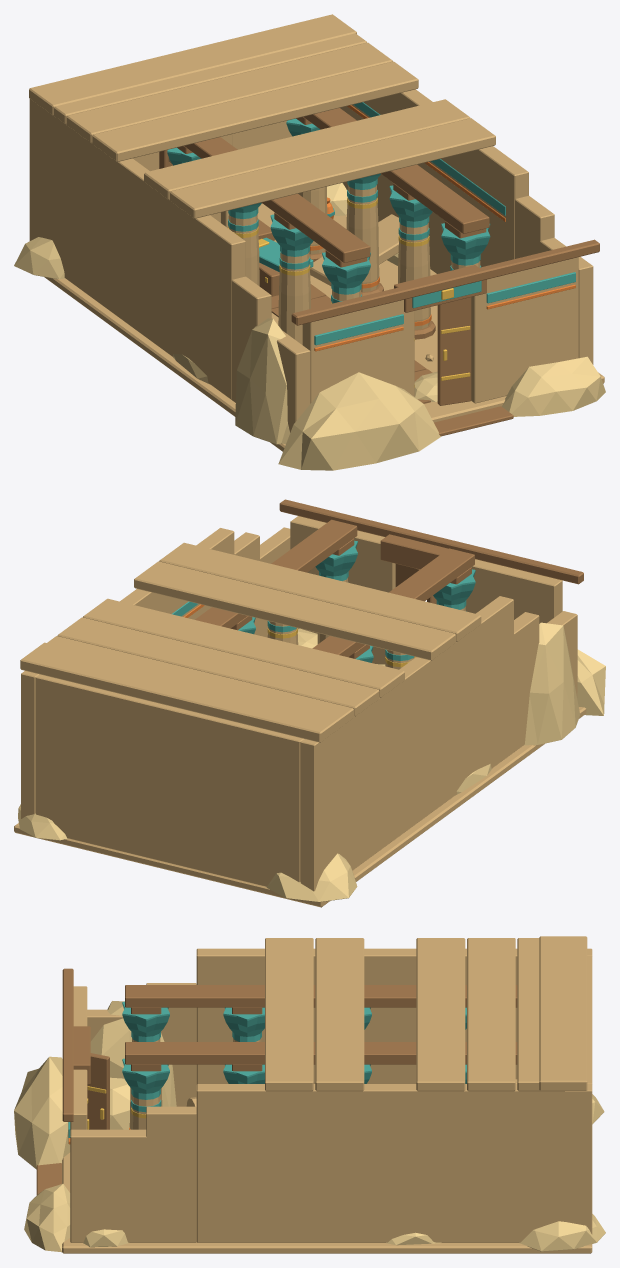
Rendered from desert-temple-hall.glb.
3 views of the same model, one above another, from view 1: azimuth 30°, elevation 25°; view 2: azimuth 150°, elevation 25°; view 3: azimuth 270°, elevation 25° (orthographic). The views are drawn at different scales.
Parts seen in each view (by area): view 1: Wall_L_Back, Sand_Dune_Front_L, RoofSlab_3, RoofSlab_1, Wall_Front_R, RoofSlab_4, RoofSlab_2, RoofSlab_6, Wall_R_Back, Wall_Front_L, Floor, Sand_OverWall_L (+28 smaller); view 2: Wall_Back, Wall_L_Back, RoofSlab_6, RoofSlab_2, RoofSlab_1, RoofSlab_3, RoofSlab_4, Sand_OverWall_L, Floor, Wall_R_Back, Wall_Front_L, Facade_Cornice (+14 smaller); view 3: Wall_R_Back, Wall_R_Front, Wall_L_Back, RoofSlab_2, RoofSlab_3, RoofSlab_6, RoofSlab_1, RoofSlab_4, Floor, Sand_Dune_Front_L, Architrave_L, Architrave_R (+21 smaller).
Part boxes in pixels (left/top/right/bottom): Wall_L_Back: left=29, top=99, right=245, bottom=399; Sand_Dune_Front_L: left=278, top=372, right=440, bottom=470; RoofSlab_3: left=92, top=61, right=418, bottom=161; RoofSlab_1: left=170, top=118, right=495, bottom=218; Wall_Front_R: left=471, top=257, right=578, bottom=403; RoofSlab_4: left=66, top=42, right=392, bottom=142; RoofSlab_2: left=144, top=99, right=470, bottom=199; RoofSlab_6: left=29, top=14, right=356, bottom=115; Wall_R_Back: left=340, top=89, right=528, bottom=273; Wall_Front_L: left=302, top=300, right=414, bottom=403; Floor: left=44, top=203, right=604, bottom=451; Sand_OverWall_L: left=235, top=318, right=287, bottom=444; Wall_Back: left=35, top=674, right=303, bottom=886; Wall_L_Back: left=300, top=596, right=513, bottom=891; RoofSlab_6: left=20, top=642, right=343, bottom=742; RoofSlab_2: left=134, top=561, right=455, bottom=660; RoofSlab_1: left=159, top=542, right=481, bottom=641; RoofSlab_3: left=83, top=598, right=404, bottom=697; RoofSlab_4: left=57, top=617, right=379, bottom=716; Sand_OverWall_L: left=524, top=622, right=580, bottom=745; Floor: left=14, top=707, right=586, bottom=907; Wall_R_Back: left=21, top=528, right=234, bottom=818; Wall_Front_L: left=465, top=559, right=562, bottom=623; Facade_Cornice: left=279, top=499, right=583, bottom=584; Wall_R_Back: left=196, top=1084, right=592, bottom=1242; Wall_R_Front: left=70, top=1129, right=196, bottom=1242; Wall_L_Back: left=196, top=948, right=592, bottom=1084; RoofSlab_2: left=315, top=938, right=364, bottom=1091; RoofSlab_3: left=416, top=938, right=465, bottom=1091; RoofSlab_6: left=539, top=936, right=587, bottom=1090; RoofSlab_1: left=265, top=938, right=313, bottom=1091; RoofSlab_4: left=467, top=938, right=515, bottom=1091; Floor: left=62, top=1152, right=592, bottom=1253; Sand_Dune_Front_L: left=14, top=1056, right=70, bottom=1169; Architrave_L: left=125, top=985, right=517, bottom=1007; Architrave_R: left=125, top=1042, right=517, bottom=1064.
Bounding box in the file's own units: 45.6 × 22.45 × 70.31.
